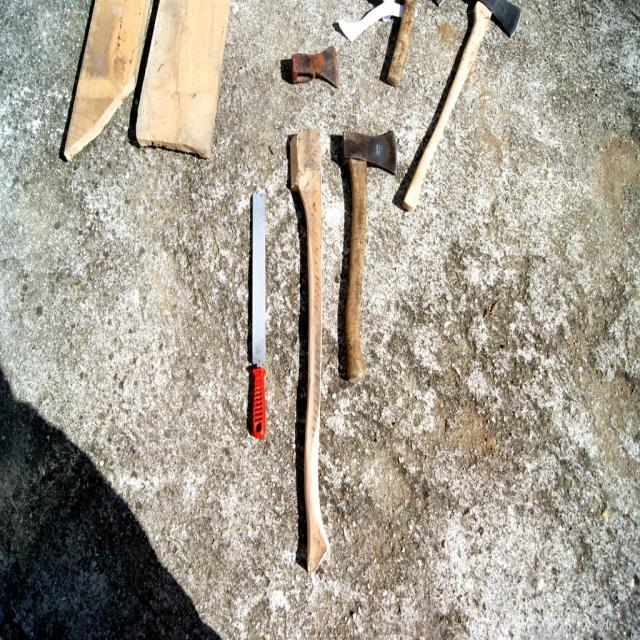Axe: (402, 0, 521, 211), (342, 131, 396, 381)
Knife: (249, 192, 266, 439)
